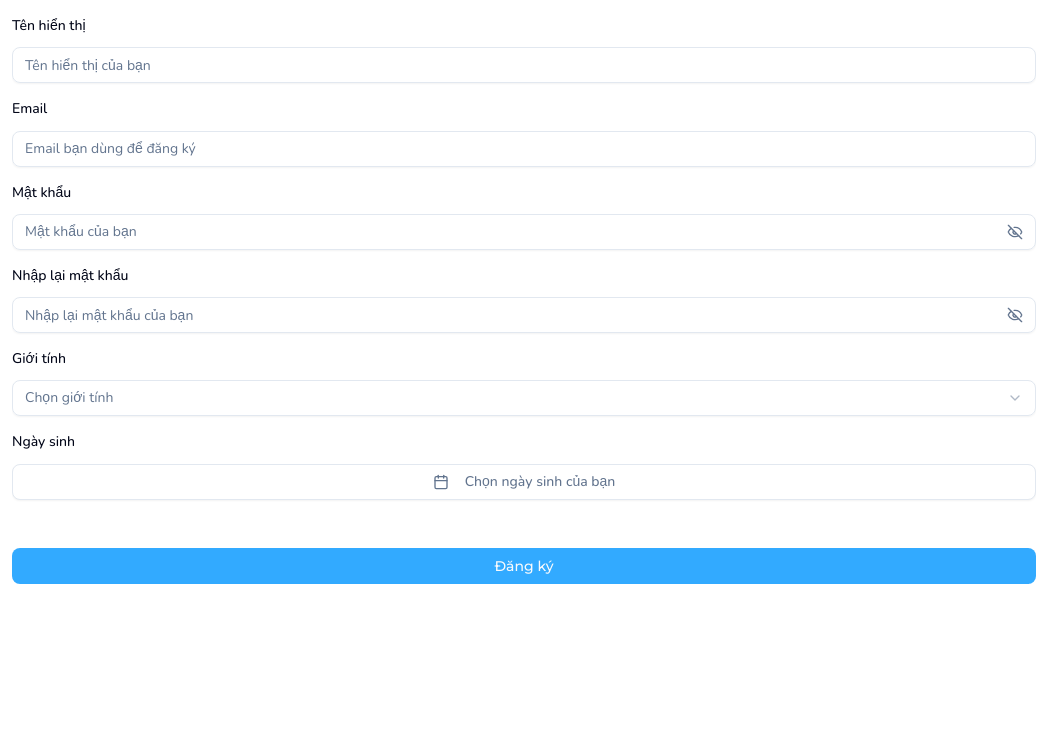
Test case: FormRegister › shows validation errors when submitting empty form
The width and height of the screenshot is (1048, 740).
What coordinates should you click on to do the following:
click the button "Đăng ký"
I would click on:
 (524, 566)
Its box is [12,548,1036,584].
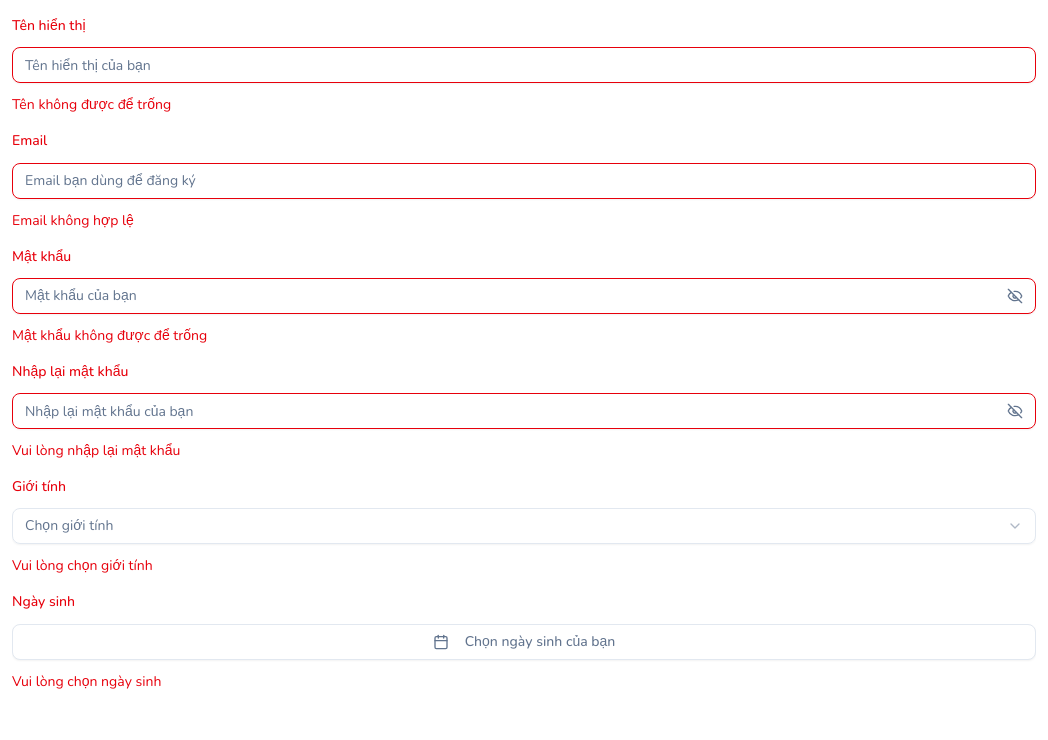
Check: the text "Tên không được để trống" is shown, box [12,95,171,114]
Check: the text "Email không hợp lệ" is shown, box [12,210,134,230]
Check: the text "Mật khẩu không được để trống" is shown, box [12,326,207,345]
